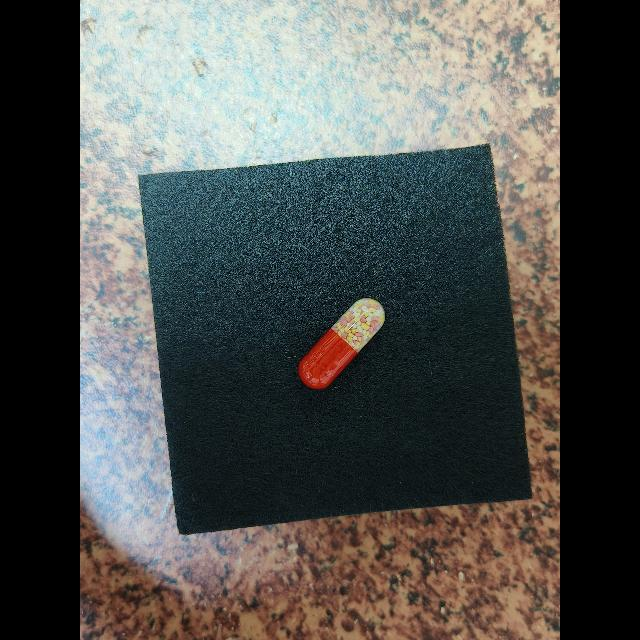Intact Capsule: (298, 298, 385, 389)
